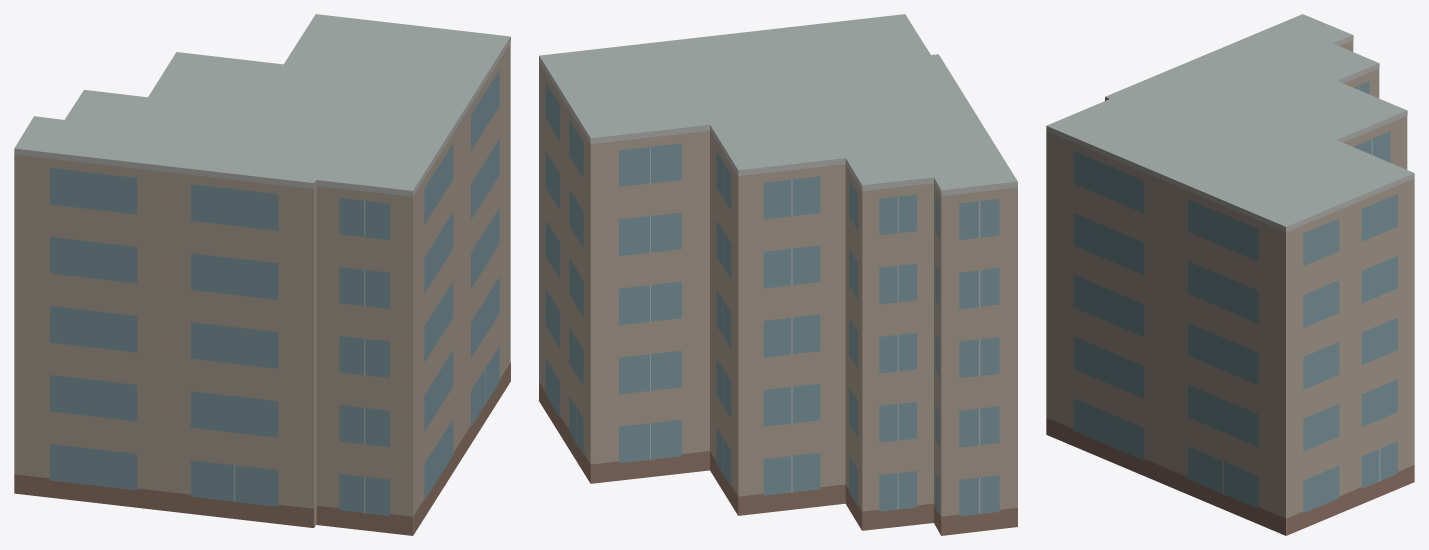
File: survey-upis-32706295.glb
The picture shows the model from 3 angles, left to right: view 1: azimuth 30°, elevation 25°; view 2: azimuth 150°, elevation 25°; view 3: azimuth 270°, elevation 25°; orthographic projection. The views are drawn at different scales.
Parts seen in each view (by area): view 1: survey-upis-32706295.tmp; view 2: survey-upis-32706295.tmp; view 3: survey-upis-32706295.tmp.
Part boxes in pixels (bbox=[...]): survey-upis-32706295.tmp: bbox=[14, 14, 510, 535]; survey-upis-32706295.tmp: bbox=[539, 14, 1017, 535]; survey-upis-32706295.tmp: bbox=[1046, 14, 1414, 535].
Size of the model in its own units: 21.29 by 14.4 by 15.57.
